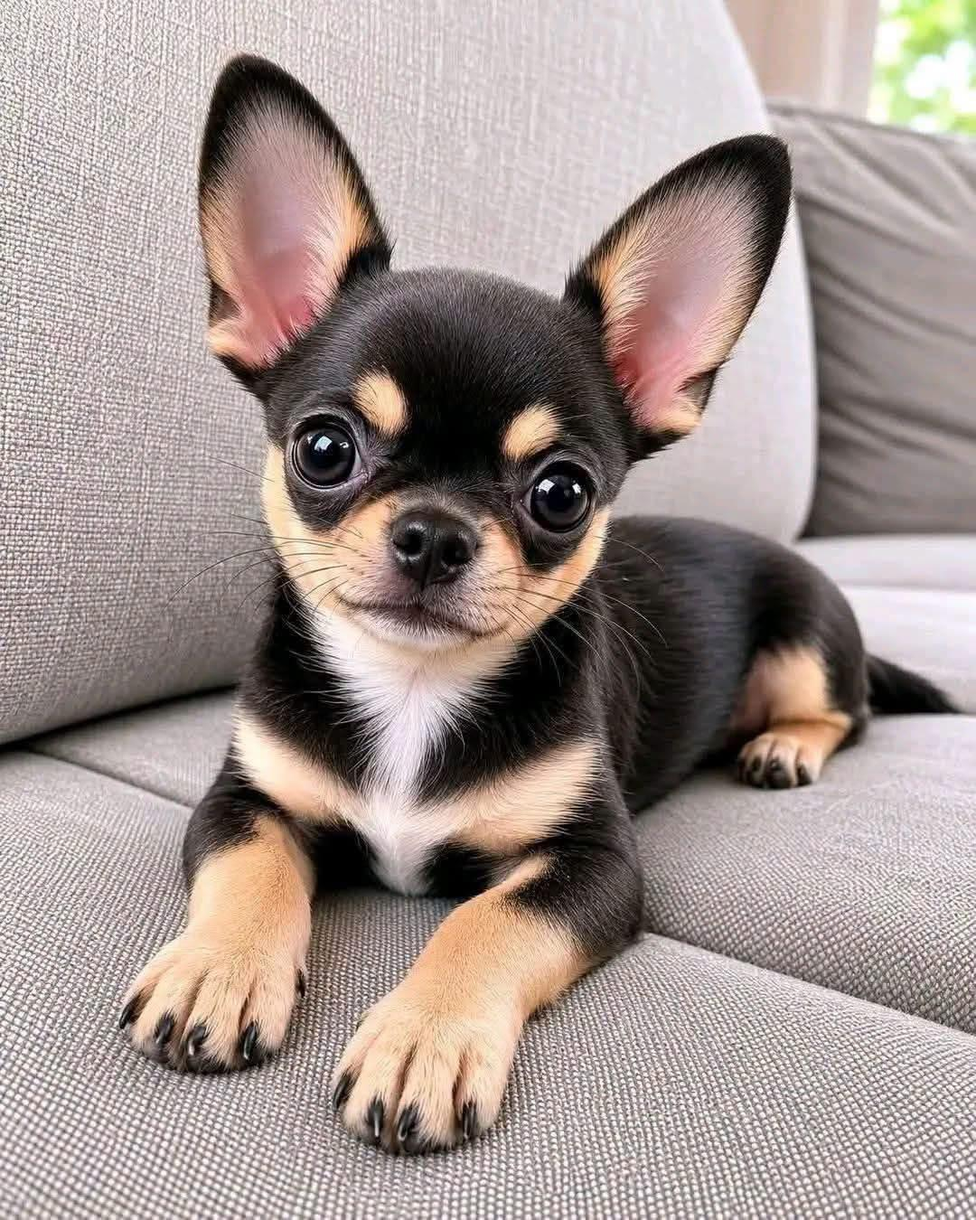dog: (122, 58, 948, 1150)
